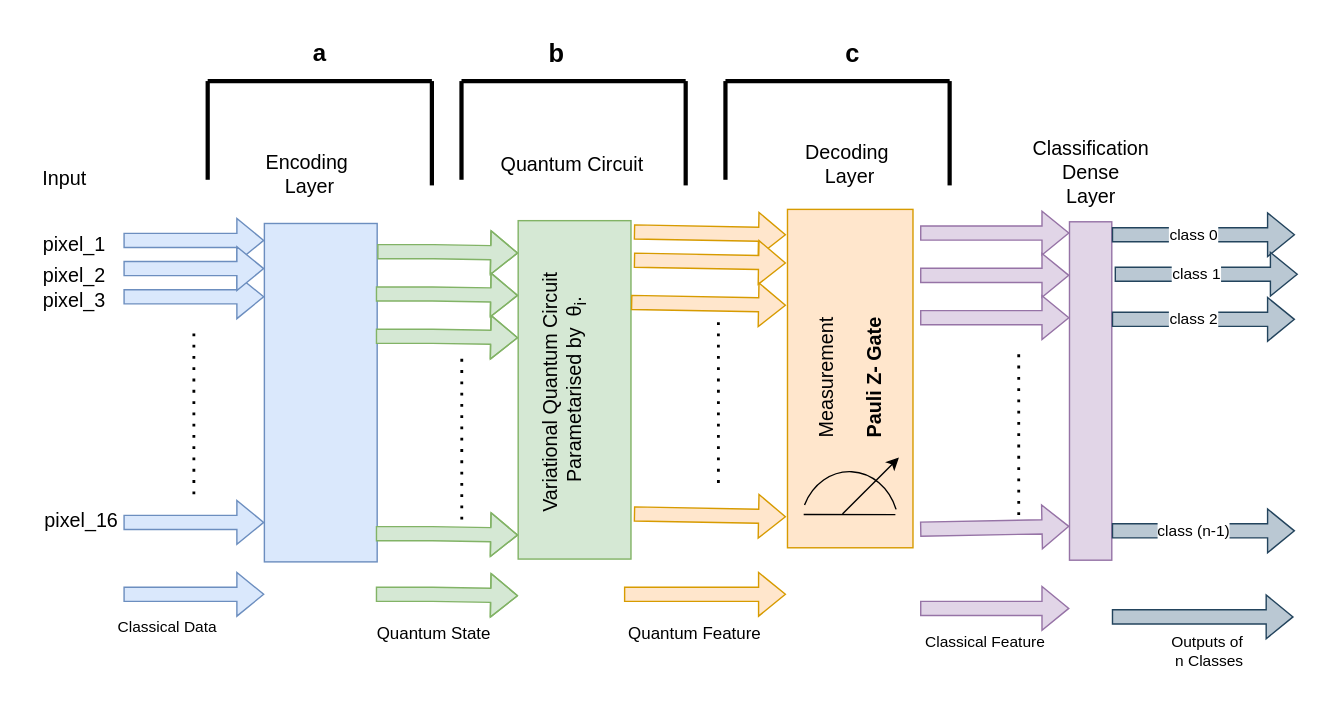
Some shapes in this 1321 by 704 pixel diagram are drawn without their labels. Here are the shapes that lost their labels. From the top down, the centre of each, then its label:
(x=320, y=392): Encoder R x (θ)
(x=1090, y=390): Final Classification Layer
